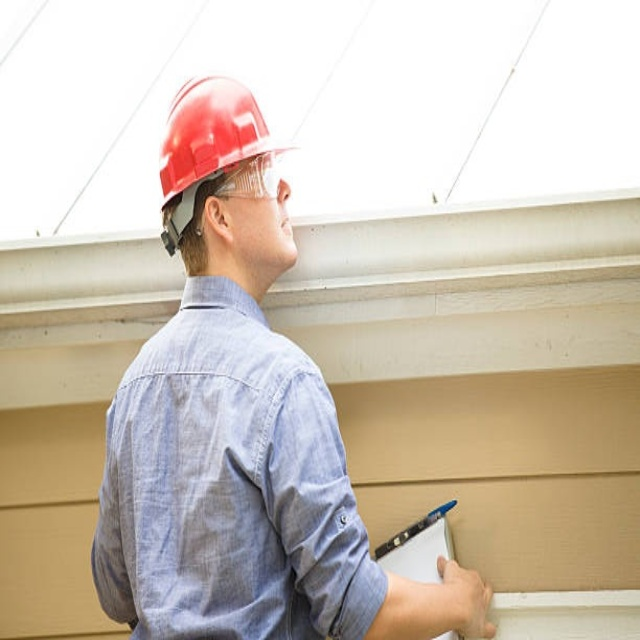Gafas: (208, 152, 281, 205)
Sin_guantes: (438, 555, 498, 640)
Sin_mascara: (269, 204, 300, 265)
